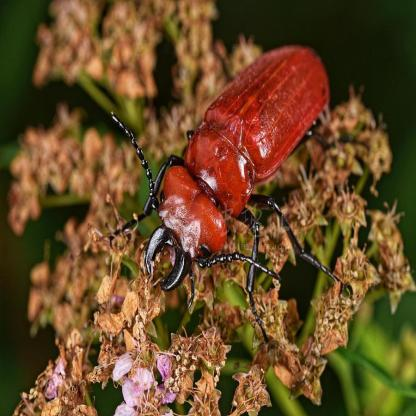beetle: (116, 42, 348, 296)
